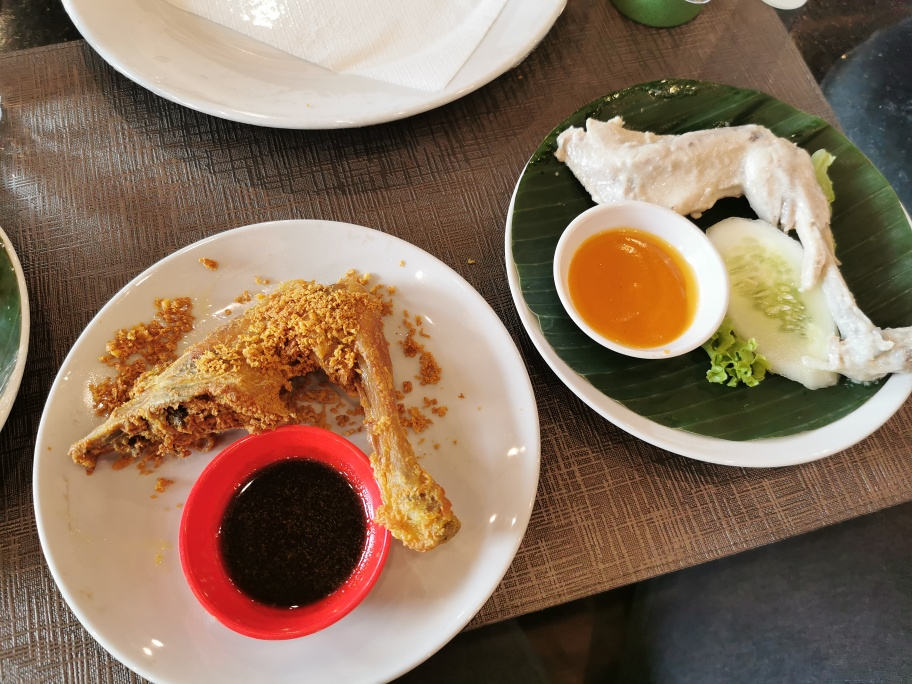ayam goreng: (69, 276, 462, 562)
ayam pop: (560, 115, 909, 379)
extra: (552, 200, 851, 391)
kecap: (180, 433, 386, 620)
